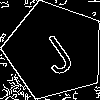J: (29, 25, 78, 78)
